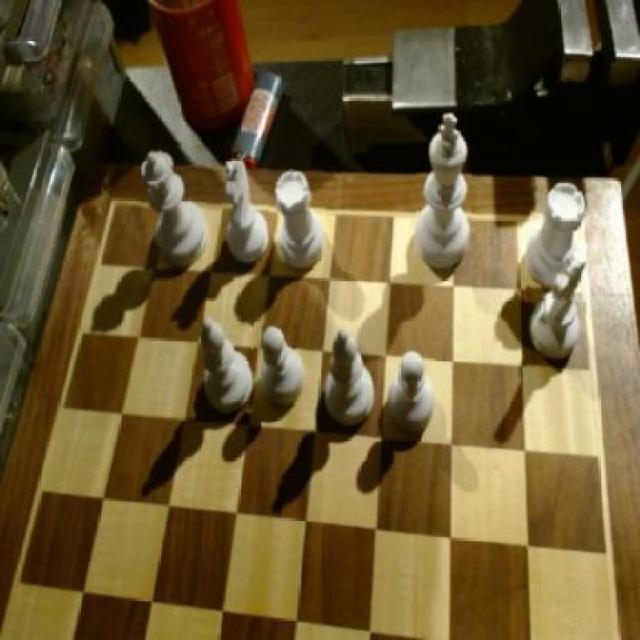black-rook: (192, 314, 254, 413), (325, 329, 376, 426)
white-bishop: (416, 112, 472, 272)
white-king: (528, 258, 592, 371), (222, 160, 270, 265)
white-knight: (257, 323, 307, 409), (388, 348, 435, 438)
white-pawn: (140, 146, 209, 270)
white-queen: (528, 178, 590, 301), (275, 168, 327, 272)
